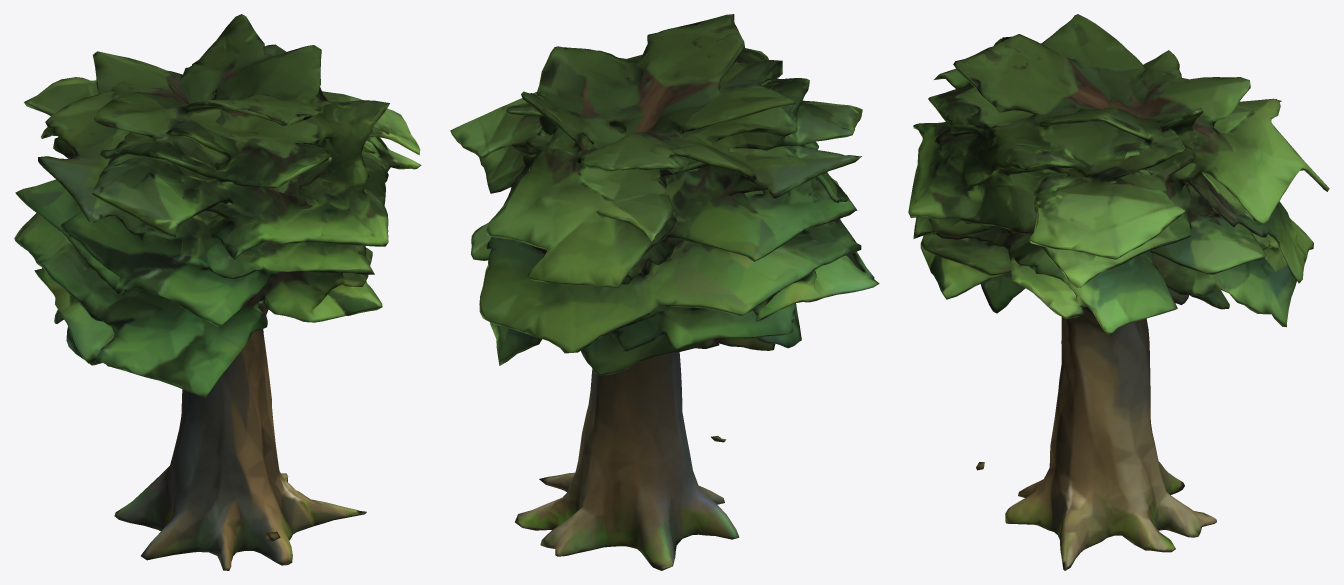
Rendered from AI_ThickJungleTree.fbx.
The picture shows the model from 3 angles, left to right: view 1: azimuth 30°, elevation 25°; view 2: azimuth 150°, elevation 25°; view 3: azimuth 270°, elevation 25°; orthographic projection. The views are drawn at different scales.
Parts seen in each view (by area): view 1: Mesh_0; view 2: Mesh_0; view 3: Mesh_0.
Boxes of the visible parts, box(x1,y1,x2,y2) form: Mesh_0: box(14, 14, 421, 570); Mesh_0: box(450, 14, 879, 570); Mesh_0: box(908, 14, 1329, 570).
Size of the model in its own units: 157 by 191 by 160.
1 material, 1 textured.
